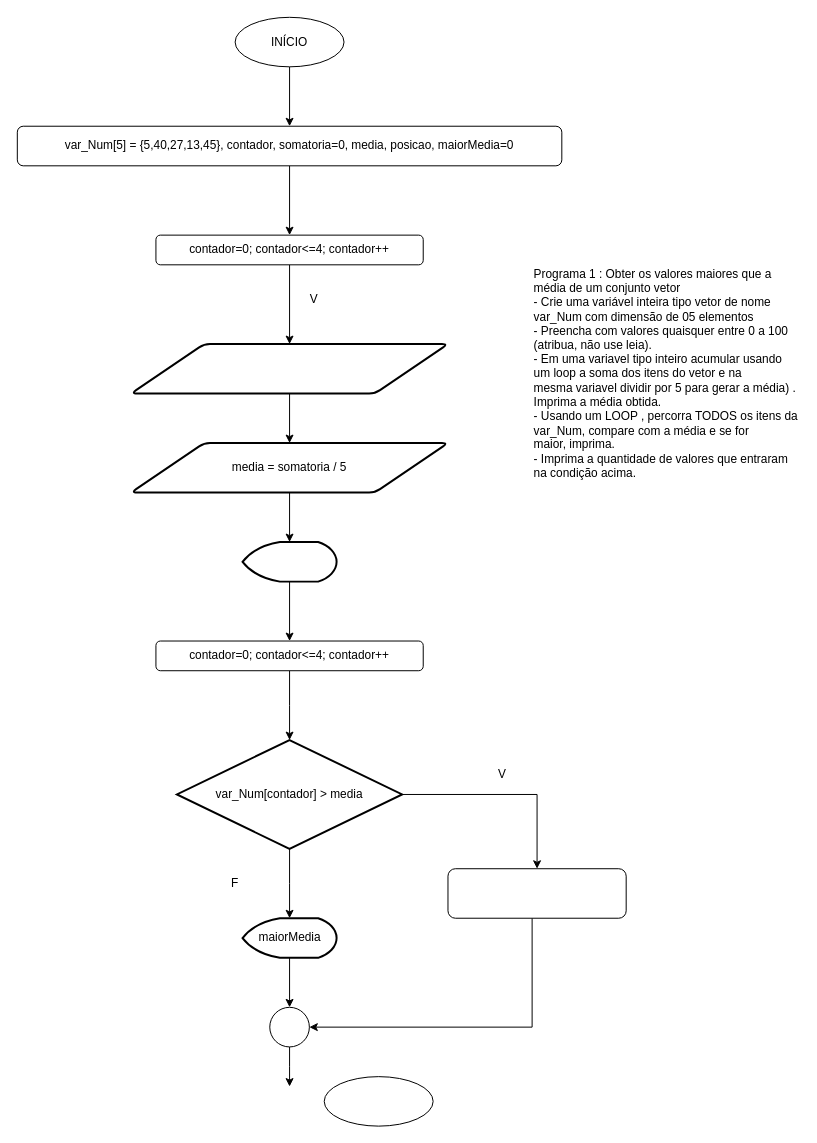
The diagram is 817 pixels wide and 1143 high, and some of its shapes have lost their labels. Each missing label, with the box of its shape:
FIM: (323, 1076, 433, 1126)
media: (241, 541, 337, 582)
posicao = var_Num[contador] somatoria += var_Num[contador]: (130, 343, 448, 394)
var_Num[contador] maiorMedia++: (447, 868, 626, 918)
